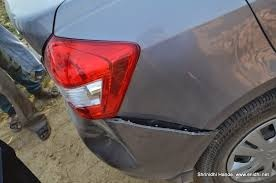Dent: (83, 114, 140, 171)
Scratch: (186, 70, 199, 82)
